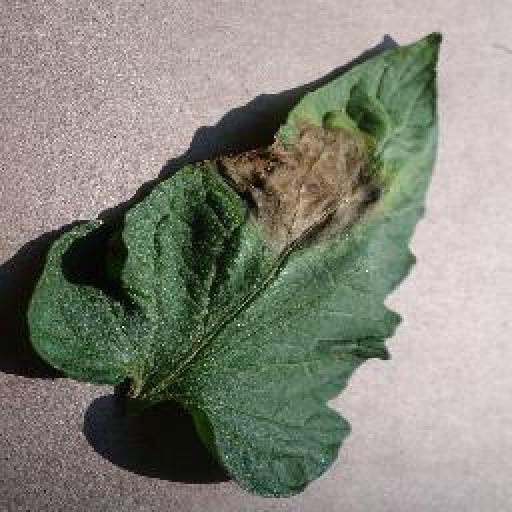disease_tomato: (28, 32, 444, 497)
